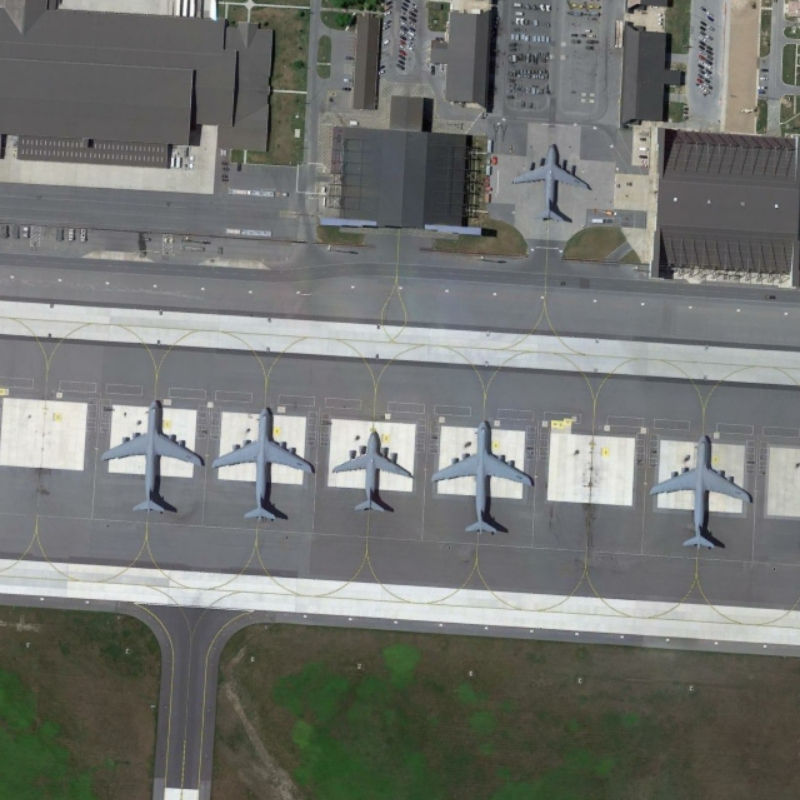A3: (327, 419, 419, 522), (510, 133, 598, 228)
A4: (645, 428, 758, 554), (96, 393, 205, 522), (208, 399, 316, 525), (426, 418, 537, 539)
